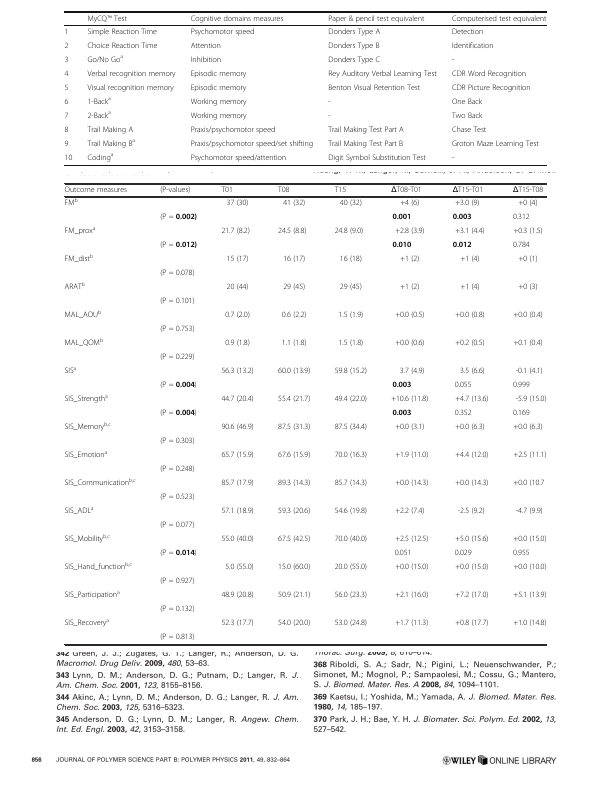borderless: (63, 181, 546, 644), (64, 10, 547, 165)
cell: (190, 139, 314, 149), (327, 69, 438, 79), (327, 153, 427, 163), (190, 153, 287, 163), (327, 83, 421, 93), (86, 69, 176, 79), (86, 83, 175, 93), (451, 139, 540, 149), (327, 14, 425, 23), (451, 14, 547, 23), (190, 125, 276, 135), (190, 14, 284, 23), (451, 83, 532, 93), (64, 477, 137, 488), (327, 125, 405, 135), (327, 139, 404, 149), (451, 69, 527, 79), (64, 561, 133, 572), (86, 27, 158, 37), (86, 41, 158, 51), (190, 27, 255, 37), (64, 589, 121, 600), (86, 137, 136, 149), (190, 97, 248, 107), (190, 111, 248, 121), (64, 186, 128, 195), (190, 69, 247, 79), (190, 83, 247, 93), (327, 27, 381, 37), (327, 55, 381, 65), (327, 41, 380, 51), (64, 421, 112, 432), (64, 533, 111, 544), (64, 617, 110, 628), (64, 393, 109, 404), (64, 449, 108, 460), (86, 125, 134, 135), (86, 53, 124, 65), (64, 337, 104, 348), (451, 41, 494, 51), (64, 309, 102, 320), (86, 14, 128, 23), (451, 125, 487, 135), (64, 225, 96, 236), (159, 213, 198, 222), (159, 241, 198, 250), (159, 381, 198, 390), (390, 395, 429, 404), (159, 409, 198, 418), (159, 549, 198, 558), (86, 151, 114, 163), (451, 27, 484, 37), (64, 253, 94, 264), (64, 505, 94, 516), (159, 269, 195, 278), (159, 297, 195, 306), (159, 325, 195, 334), (159, 353, 195, 362), (159, 437, 195, 446), (159, 465, 195, 474), (159, 493, 195, 502), (159, 521, 195, 530), (159, 577, 195, 586), (159, 605, 195, 614), (159, 633, 195, 642), (190, 41, 222, 51), (190, 55, 222, 65), (451, 97, 483, 107), (451, 111, 483, 121), (220, 367, 255, 376), (220, 395, 255, 404), (454, 395, 489, 404), (220, 423, 255, 432), (220, 451, 255, 460), (394, 451, 429, 460), (454, 451, 489, 460), (512, 451, 547, 460), (220, 479, 255, 488), (394, 479, 429, 488), (454, 479, 489, 488), (220, 507, 255, 516), (220, 535, 255, 544), (394, 535, 429, 544), (454, 535, 489, 544), (512, 535, 547, 544), (394, 563, 429, 572), (454, 563, 489, 572), (512, 563, 547, 572), (220, 591, 255, 600), (394, 591, 429, 600), (454, 591, 489, 600), (512, 591, 547, 600), (220, 619, 255, 628), (394, 619, 429, 628), (454, 619, 489, 628), (512, 619, 547, 628), (86, 95, 112, 107), (86, 109, 112, 121), (277, 367, 311, 376), (334, 367, 368, 376), (277, 395, 311, 404), (334, 395, 368, 404), (277, 423, 311, 432), (334, 423, 368, 432), (277, 451, 311, 460), (334, 451, 368, 460), (277, 479, 311, 488), (334, 479, 368, 488), (277, 507, 311, 516), (334, 507, 368, 516), (277, 535, 311, 544), (334, 535, 368, 544), (277, 563, 311, 572), (334, 563, 368, 572), (277, 591, 311, 600), (334, 591, 368, 600), (277, 619, 311, 628), (334, 619, 368, 628), (390, 186, 423, 195), (512, 479, 545, 488), (159, 186, 191, 195), (452, 186, 484, 195), (512, 186, 544, 195), (454, 227, 486, 236), (512, 227, 544, 236), (454, 311, 486, 320), (512, 311, 544, 320), (454, 339, 486, 348), (512, 339, 544, 348), (515, 395, 547, 404), (454, 423, 486, 432), (512, 423, 544, 432), (220, 227, 251, 236), (394, 227, 425, 236), (394, 311, 425, 320), (394, 339, 425, 348), (394, 423, 425, 432), (394, 507, 425, 516), (224, 563, 255, 572), (277, 227, 307, 236), (334, 227, 364, 236), (515, 367, 544, 376), (457, 507, 486, 516), (515, 507, 544, 516), (224, 311, 251, 320), (337, 311, 364, 320), (224, 339, 251, 348), (337, 339, 364, 348), (459, 367, 486, 376), (64, 281, 86, 292), (454, 199, 480, 208), (281, 311, 307, 320), (281, 339, 307, 348), (399, 367, 425, 376), (282, 199, 306, 208), (339, 199, 363, 208), (282, 255, 306, 264), (339, 255, 363, 264), (282, 283, 306, 292), (339, 283, 363, 292), (226, 199, 249, 208), (226, 255, 249, 264), (226, 283, 249, 292), (399, 199, 420, 208), (517, 199, 538, 208), (399, 255, 420, 264), (459, 255, 480, 264), (517, 255, 538, 264), (399, 283, 420, 292), (459, 283, 480, 292), (517, 283, 538, 292), (391, 213, 412, 221), (391, 241, 412, 249), (391, 381, 412, 389), (391, 409, 412, 417), (64, 197, 79, 208), (512, 213, 530, 222), (512, 241, 530, 250), (454, 381, 472, 390), (512, 381, 530, 390), (454, 409, 472, 418), (512, 409, 530, 418), (394, 549, 412, 558), (454, 549, 472, 558), (512, 549, 530, 558), (452, 213, 472, 221), (452, 241, 472, 249), (64, 365, 77, 376), (220, 186, 234, 195), (277, 186, 290, 195), (334, 186, 347, 195), (64, 153, 73, 163), (63, 27, 69, 37), (63, 41, 69, 51), (63, 55, 69, 65), (64, 69, 69, 79), (64, 83, 69, 93), (64, 97, 69, 107), (327, 97, 332, 107), (64, 111, 69, 121), (327, 111, 332, 121), (64, 125, 69, 135), (64, 139, 69, 149), (451, 55, 455, 65), (451, 153, 455, 163)
